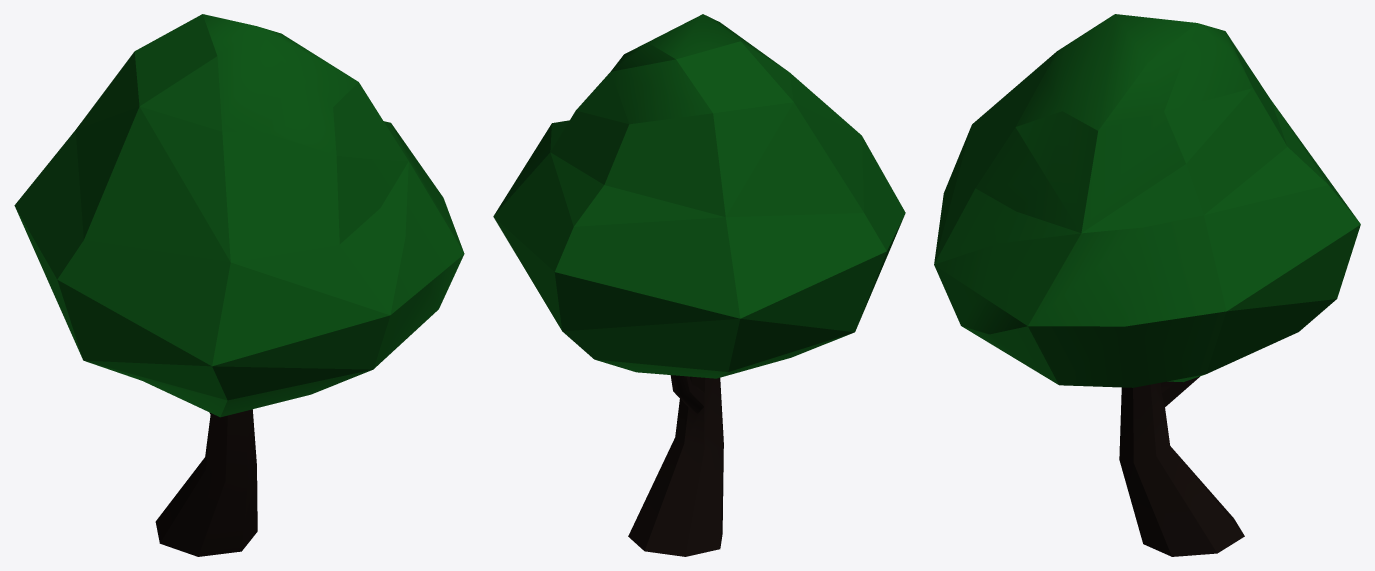
File: arbusto_3.FBX
3 renders of one model, left to right at view 1: azimuth 30°, elevation 25°; view 2: azimuth 150°, elevation 25°; view 3: azimuth 270°, elevation 25°, orthographic. The views are drawn at different scales.
Parts seen in each view (by area): view 1: pCylinder6; view 2: pCylinder6; view 3: pCylinder6.
Part boxes in pixels (x1,y1,x2,y2): pCylinder6: (14, 14, 464, 556); pCylinder6: (493, 14, 905, 556); pCylinder6: (934, 14, 1360, 556).
Bounding box in the file's own units: 0.8988 × 1.18 × 0.8597.
